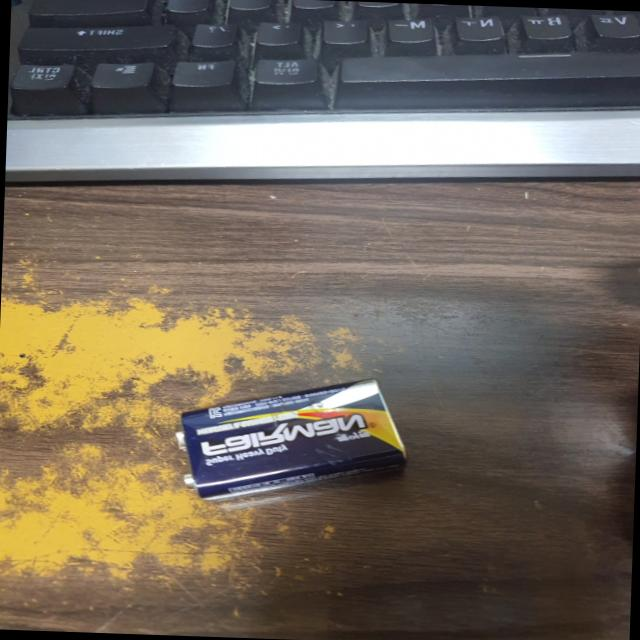battery-etc-etc: (158, 364, 426, 522)
